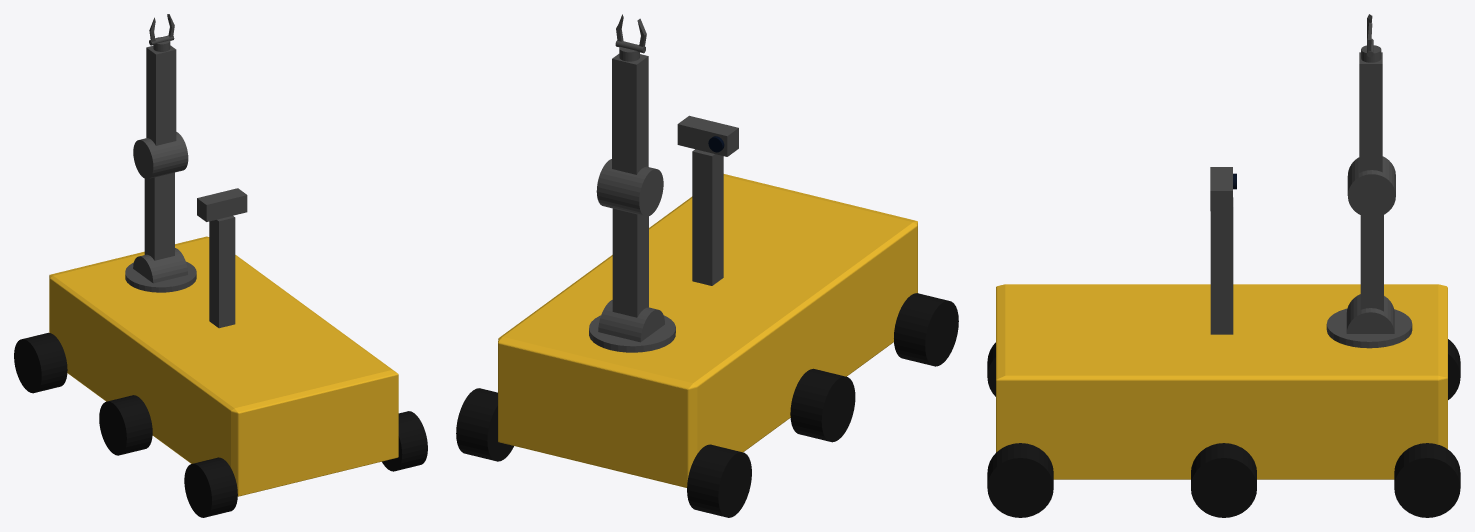
Rendered from Rover.glb.
The picture shows the model from 3 angles, left to right: view 1: azimuth 30°, elevation 25°; view 2: azimuth 150°, elevation 25°; view 3: azimuth 270°, elevation 25°; orthographic projection. The views are drawn at different scales.
Parts seen in each view (by area): view 1: Body, Kamerapfosten, Unterarm, RadML, RadHL, RadVL, Oberarm, Ellenbogen, RadHR, Kamera, Schulter, Basis; view 2: Body, Kamerapfosten, Unterarm, RadML, RadHL, RadVL, Oberarm, RadVR, Ellenbogen, Kamera, Schulter, Basis; view 3: Body, RadVR, RadHR, RadMR, Kamerapfosten, Unterarm, Ellenbogen, Oberarm, Basis, Schulter, Kamera, RadVL.
Part boxes in pixels (x1,y1,x2,y2): Body: [49, 236, 398, 496]; Kamerapfosten: [209, 216, 235, 328]; Unterarm: [146, 45, 176, 145]; RadML: [99, 395, 152, 455]; RadHL: [184, 457, 237, 517]; RadVL: [14, 332, 67, 393]; Oberarm: [144, 172, 174, 260]; Ellenbogen: [133, 132, 188, 179]; RadHR: [382, 411, 427, 471]; Kamera: [197, 188, 247, 221]; Schulter: [133, 248, 187, 283]; Basis: [125, 261, 196, 292]; Body: [498, 174, 917, 487]; Kamerapfosten: [692, 149, 723, 285]; Unterarm: [612, 54, 648, 174]; RadML: [790, 368, 855, 442]; RadHL: [894, 293, 958, 366]; RadVL: [687, 444, 751, 517]; Oberarm: [612, 208, 648, 317]; RadVR: [456, 388, 513, 461]; Ellenbogen: [596, 159, 663, 216]; Kamera: [677, 115, 738, 156]; Schulter: [598, 300, 664, 342]; Basis: [589, 315, 675, 352]; Body: [996, 284, 1447, 479]; RadVR: [1394, 443, 1460, 517]; RadHR: [987, 443, 1053, 517]; RadMR: [1191, 443, 1256, 517]; Kamerapfosten: [1210, 197, 1233, 334]; Unterarm: [1359, 52, 1382, 172]; Ellenbogen: [1347, 156, 1395, 217]; Oberarm: [1360, 215, 1383, 311]; Basis: [1326, 308, 1412, 348]; Schulter: [1346, 294, 1394, 333]; Kamera: [1210, 167, 1232, 211]; RadVL: [1448, 339, 1460, 399].
Bounding box in the file's own units: 2.63 × 4.27 × 4.19.
